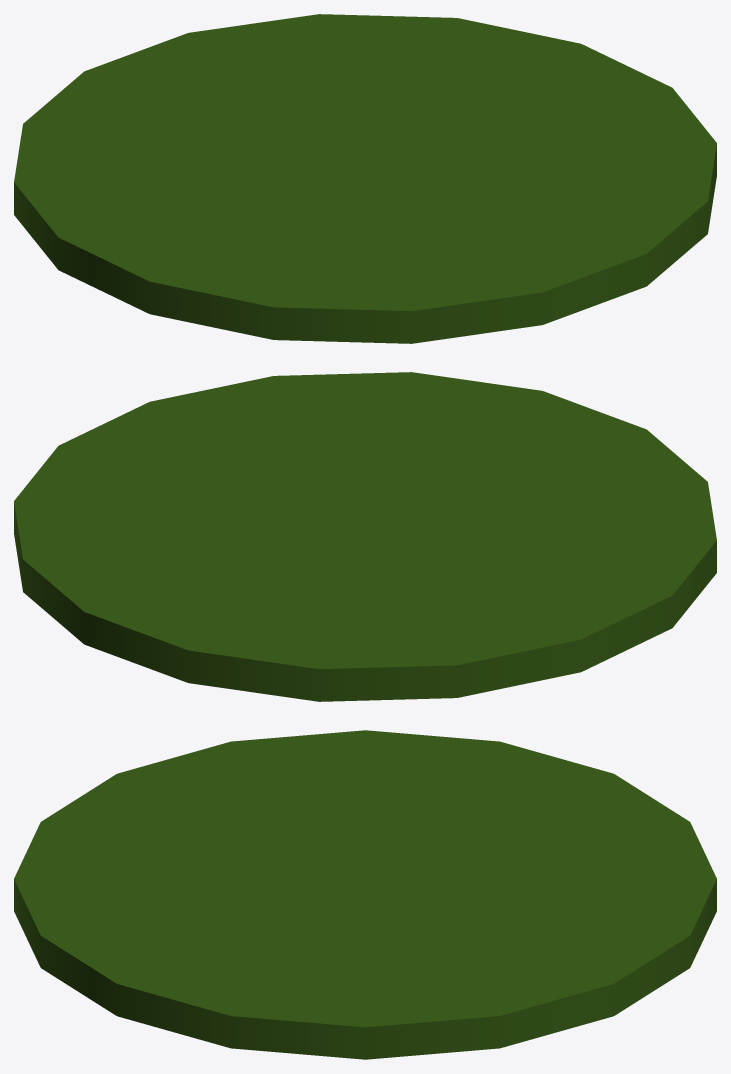
File: Lily.fbx
3 renders of one model, top to bottom at view 1: azimuth 30°, elevation 25°; view 2: azimuth 150°, elevation 25°; view 3: azimuth 270°, elevation 25°, orthographic.
Parts seen in each view (by area): view 1: Lily; view 2: Lily; view 3: Lily.
Part boxes in pixels (<box>): Lily: <box>14,14,716,343</box>; Lily: <box>14,372,716,701</box>; Lily: <box>14,730,716,1059</box>.
Bounding box in the file's own units: 200 × 10.17 × 200.
